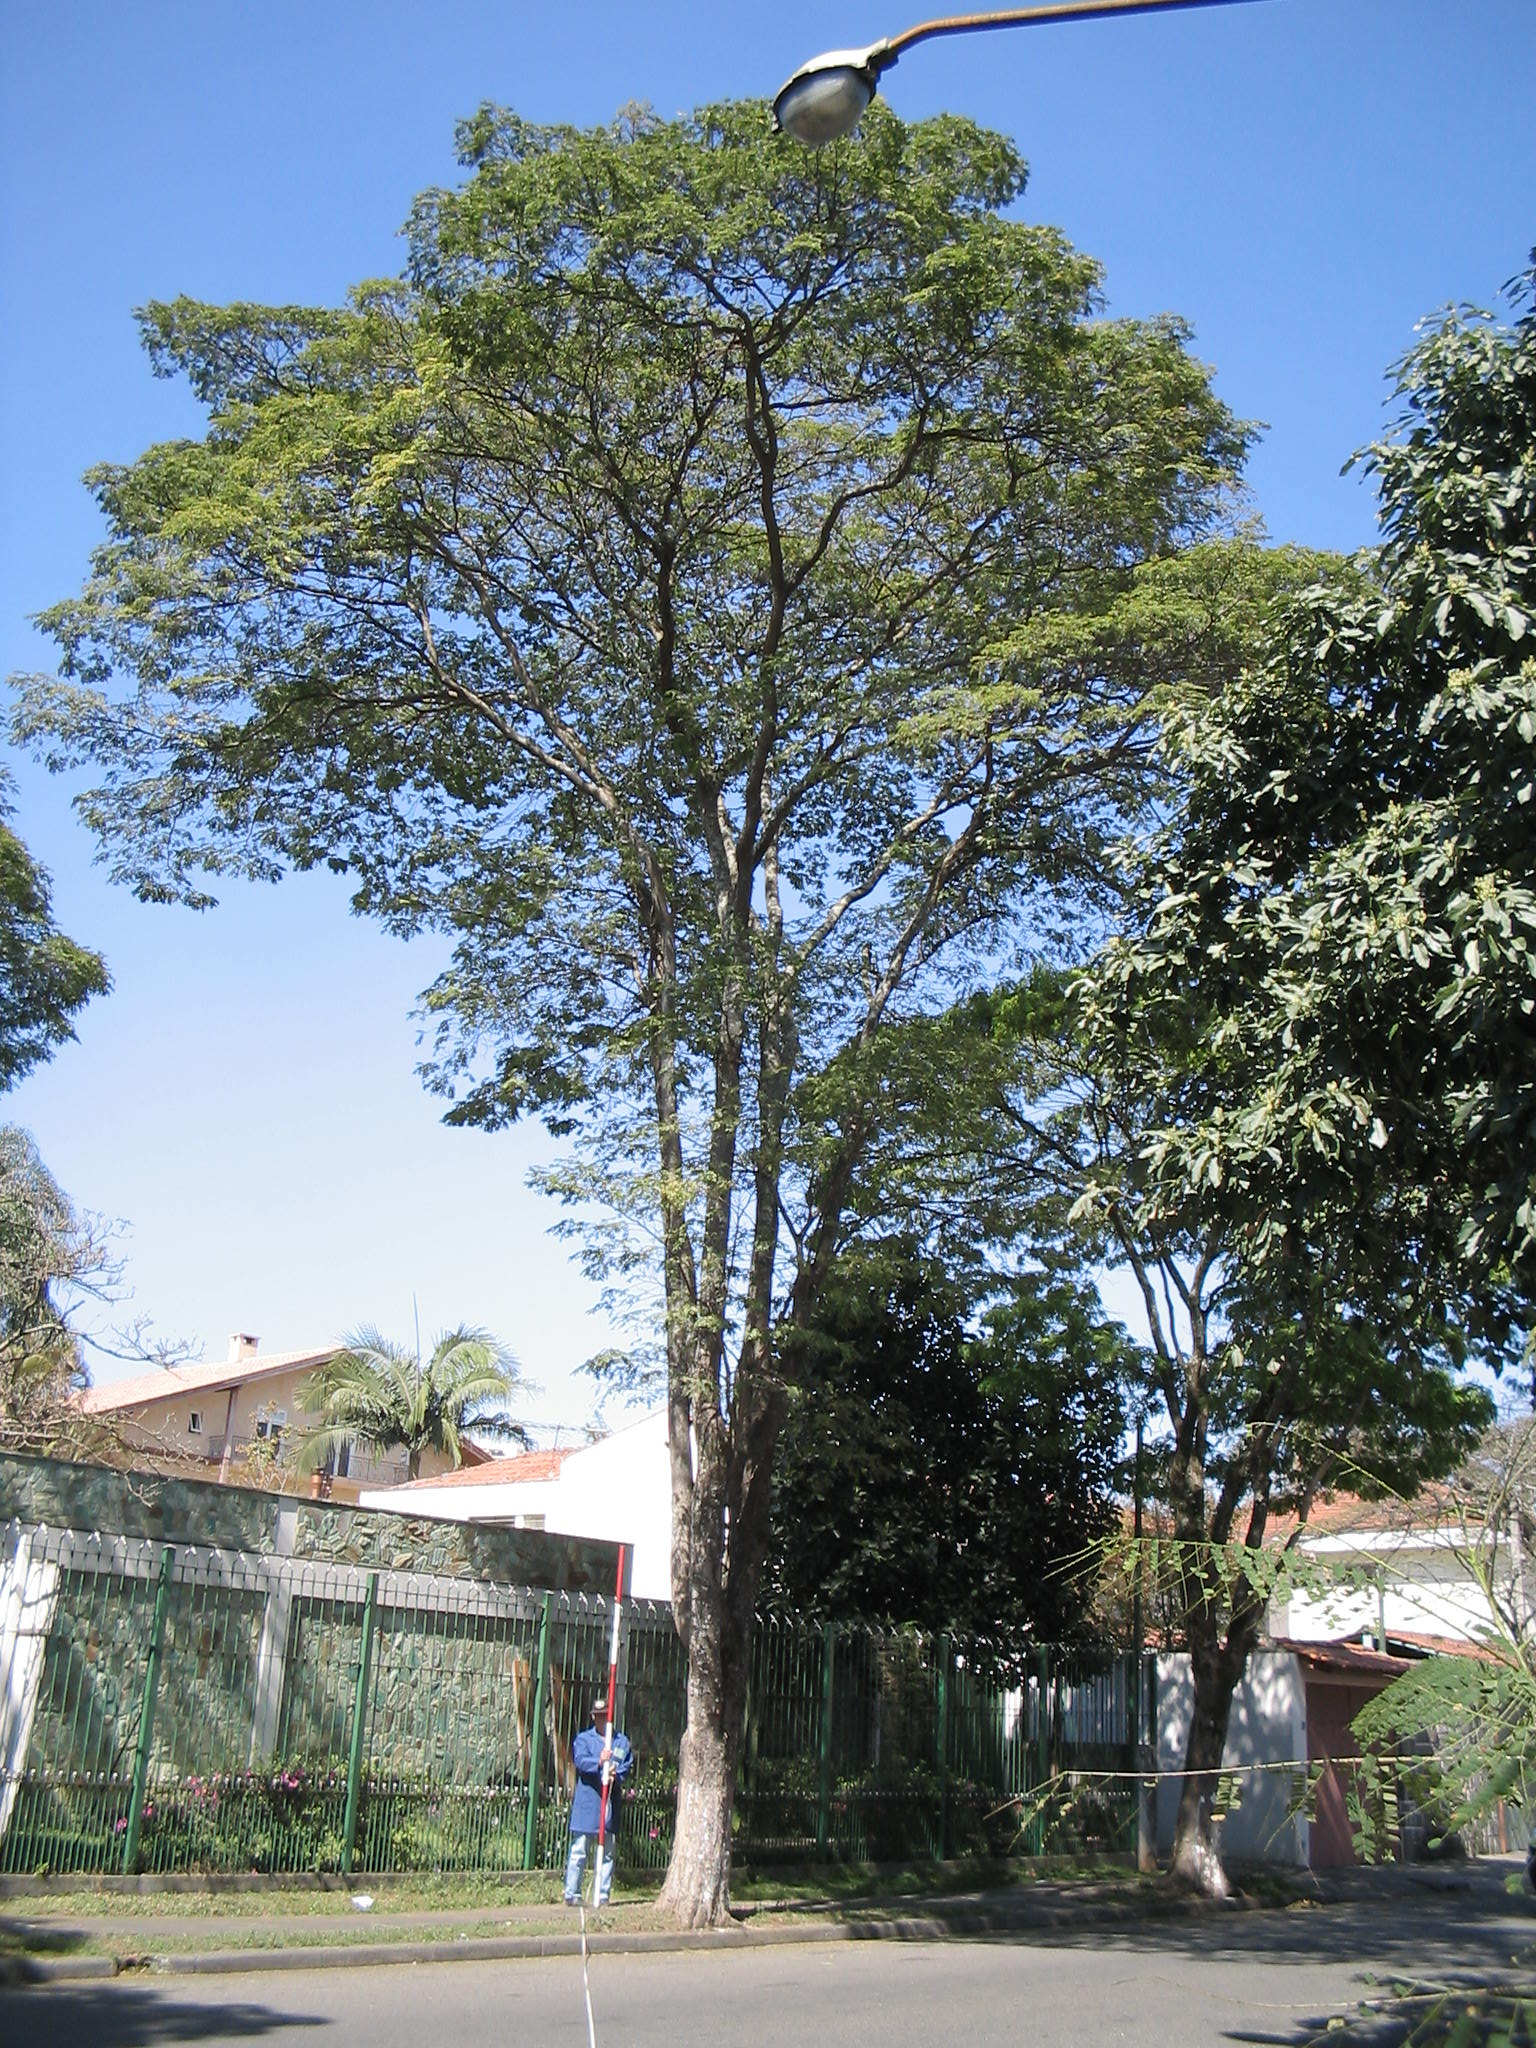crown: (18, 90, 1257, 1216)
stem: (637, 1667, 787, 1924), (1137, 1650, 1283, 1892)
stick: (578, 1537, 647, 1900)
tree: (6, 87, 1270, 1924), (821, 1003, 1478, 1895)
